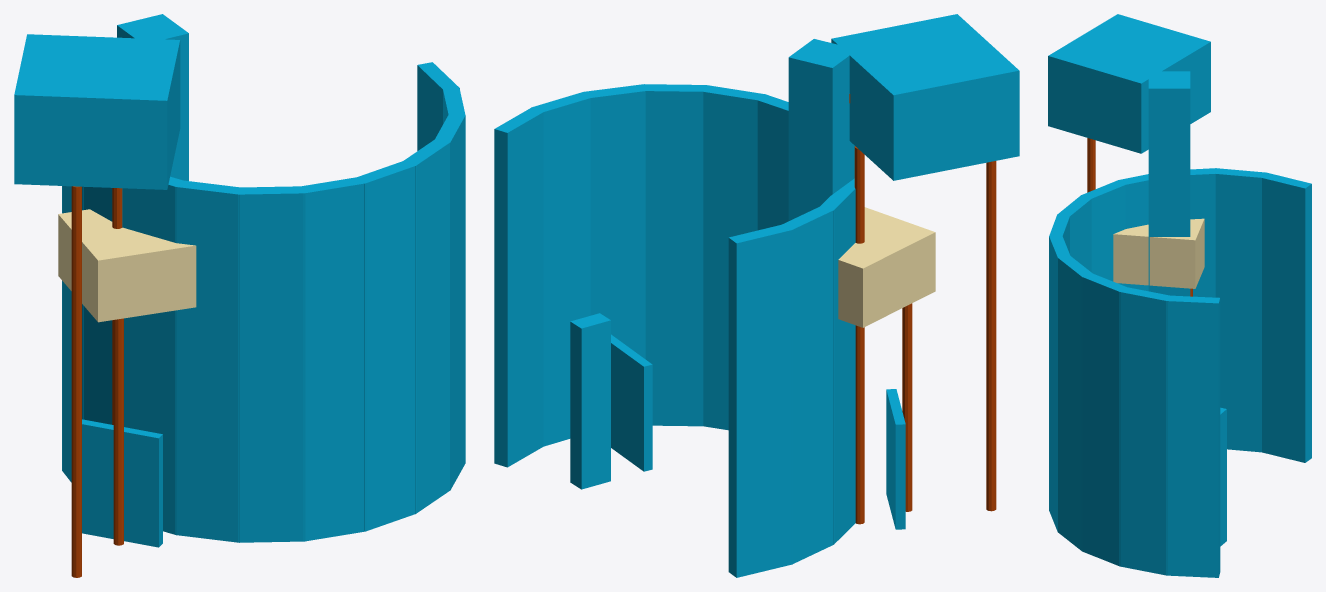
The model's file is folie_tag_055.glb.
3 views of the same model, side by side, from view 1: azimuth 30°, elevation 25°; view 2: azimuth 150°, elevation 25°; view 3: azimuth 270°, elevation 25° (orthographic). The views are drawn at different scales.
Parts seen in each view (by area): view 1: folie_tag_055_00_curve, folie_tag_055_01_block, folie_tag_055_02_block, folie_tag_055_06_panel, folie_tag_055_line, folie_tag_055_core; view 2: folie_tag_055_00_curve, folie_tag_055_01_block, folie_tag_055_core, folie_tag_055_line, folie_tag_055_02_block, folie_tag_055_07_fin, folie_tag_055_05_panel, folie_tag_055_06_panel; view 3: folie_tag_055_00_curve, folie_tag_055_01_block, folie_tag_055_core, folie_tag_055_02_block, folie_tag_055_07_fin, folie_tag_055_line.
Boxes of the visible parts, x1=… form: folie_tag_055_00_curve: x1=62, y1=62, x2=465, y2=542; folie_tag_055_01_block: x1=14, y1=34, x2=180, y2=189; folie_tag_055_02_block: x1=58, y1=209, x2=196, y2=322; folie_tag_055_06_panel: x1=82, y1=419, x2=162, y2=547; folie_tag_055_line: x1=71, y1=186, x2=123, y2=577; folie_tag_055_core: x1=117, y1=14, x2=188, y2=180; folie_tag_055_00_curve: x1=494, y1=84, x2=855, y2=577; folie_tag_055_01_block: x1=831, y1=14, x2=1019, y2=180; folie_tag_055_core: x1=788, y1=39, x2=857, y2=220; folie_tag_055_line: x1=849, y1=94, x2=996, y2=524; folie_tag_055_02_block: x1=838, y1=207, x2=935, y2=327; folie_tag_055_07_fin: x1=570, y1=313, x2=610, y2=489; folie_tag_055_05_panel: x1=611, y1=334, x2=652, y2=471; folie_tag_055_06_panel: x1=886, y1=389, x2=905, y2=529; folie_tag_055_00_curve: x1=1049, y1=168, x2=1311, y2=577; folie_tag_055_01_block: x1=1048, y1=14, x2=1210, y2=153; folie_tag_055_core: x1=1148, y1=71, x2=1190, y2=296; folie_tag_055_02_block: x1=1113, y1=218, x2=1204, y2=288; folie_tag_055_07_fin: x1=1220, y1=407, x2=1226, y2=546; folie_tag_055_line: x1=1087, y1=138, x2=1192, y2=296.
Bounding box in the file's own units: 11.6 × 11.02 × 6.97.
